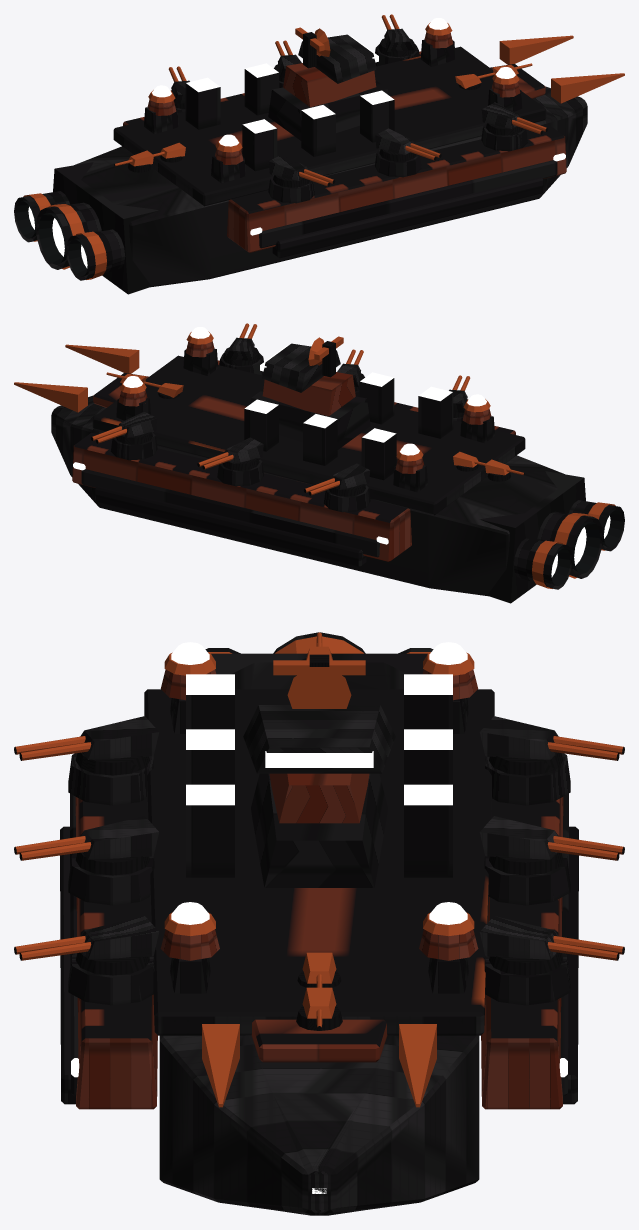
File: cruiser.glb
3 renders of one model, top to bottom at view 1: azimuth 30°, elevation 25°; view 2: azimuth 150°, elevation 25°; view 3: azimuth 270°, elevation 25°, orthographic. The views are drawn at different scales.
Parts seen in each view (by area): view 1: hull_body, engine_block, weapon_turrets, sensor_tower, shield_pylons; view 2: hull_body, engine_block, weapon_turrets, sensor_tower, shield_pylons; view 3: hull_body, weapon_turrets, sensor_tower, shield_pylons, engine_block.
Part boxes in pixels (box(x1,y1,x2,y2)): hull_body: box(74, 35, 624, 287); engine_block: box(14, 162, 158, 294); weapon_turrets: box(114, 14, 547, 203); sensor_tower: box(268, 27, 388, 140); shield_pylons: box(144, 18, 522, 183); hull_body: box(14, 344, 564, 596); engine_block: box(480, 471, 624, 603); weapon_turrets: box(91, 323, 524, 512); sensor_tower: box(250, 336, 370, 449); shield_pylons: box(116, 327, 494, 492); hull_body: box(60, 662, 578, 1215); weapon_turrets: box(14, 632, 624, 1030); sensor_tower: box(243, 654, 395, 887); shield_pylons: box(160, 642, 478, 993); engine_block: box(205, 632, 433, 674).
Size of the model in its own units: 42 by 13.64 by 21.12.
Materials: 1 (1 with a texture image).
